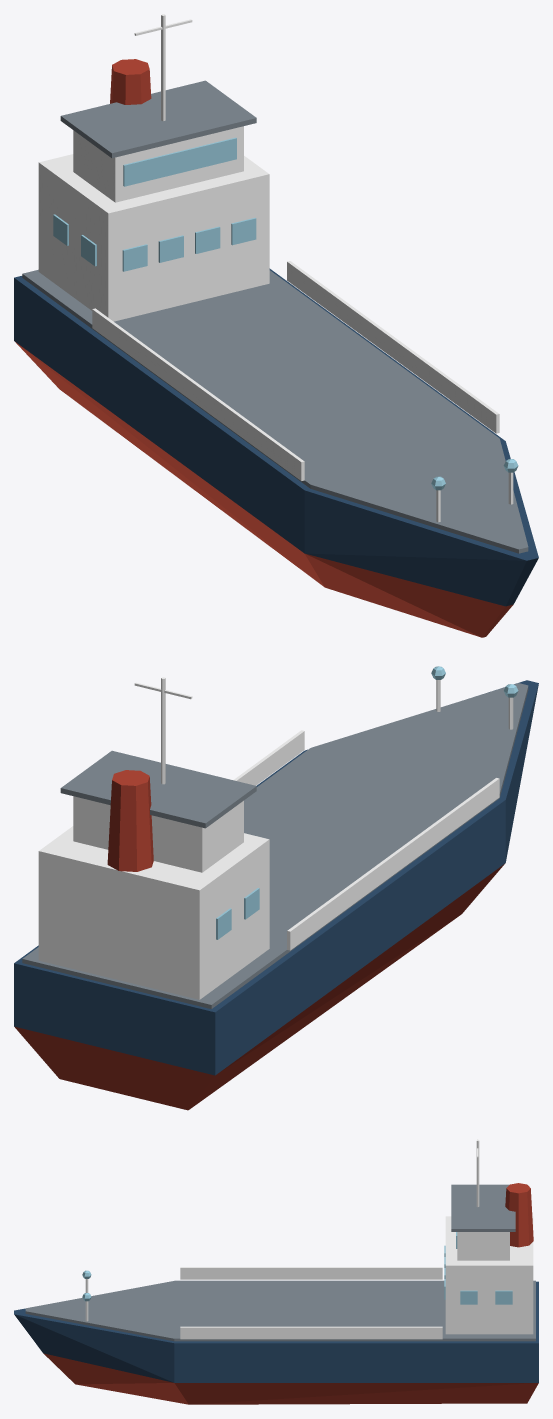
Rendered from ship.glb.
The picture shows the model from 3 angles, top to bottom: view 1: azimuth 30°, elevation 25°; view 2: azimuth 150°, elevation 25°; view 3: azimuth 270°, elevation 25°; orthographic projection. The views are drawn at different scales.
Visible parts, largest first — view 1: Body, Lights, Funnel, Mast; view 2: Body, Funnel, Lights, Mast; view 3: Body, Funnel, Lights.
Part boxes in pixels (<box>): Body: <box>14,80,538,637</box>; Lights: <box>53,137,518,490</box>; Funnel: <box>110,59,151,104</box>; Mast: <box>134,14,192,121</box>; Body: <box>14,680,538,1110</box>; Funnel: <box>107,770,153,871</box>; Lights: <box>216,666,518,939</box>; Mast: <box>134,677,192,784</box>; Body: <box>14,1184,538,1404</box>; Funnel: <box>505,1183,533,1247</box>; Lights: <box>82,1232,512,1304</box>.
Bounding box in the file's own units: 5 × 9.2 × 18.
